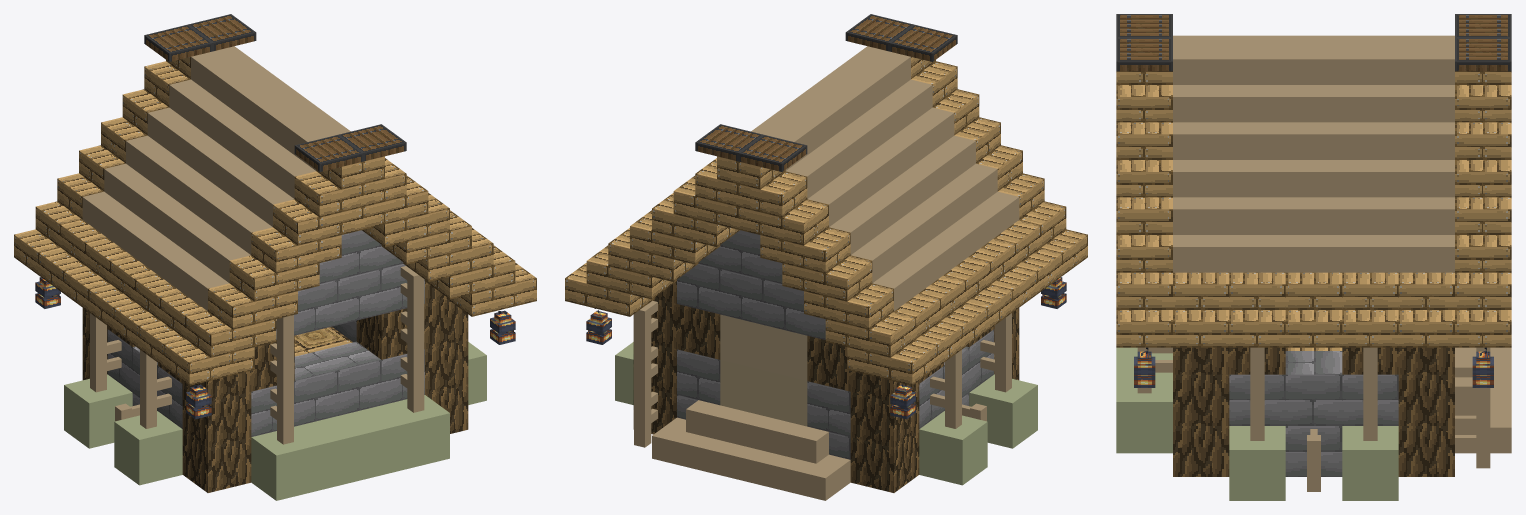
File: Home6.fbx
The picture shows the model from 3 angles, left to right: view 1: azimuth 30°, elevation 25°; view 2: azimuth 150°, elevation 25°; view 3: azimuth 270°, elevation 25°; orthographic projection. The views are drawn at different scales.
Parts seen in each view (by area): view 1: Home6; view 2: Home6; view 3: Home6.
Part boxes in pixels (bbox=[...]): Home6: bbox=[14, 14, 536, 500]; Home6: bbox=[565, 14, 1087, 500]; Home6: bbox=[1116, 14, 1511, 500].
Size of the model in its own units: 800 by 719 by 700.
